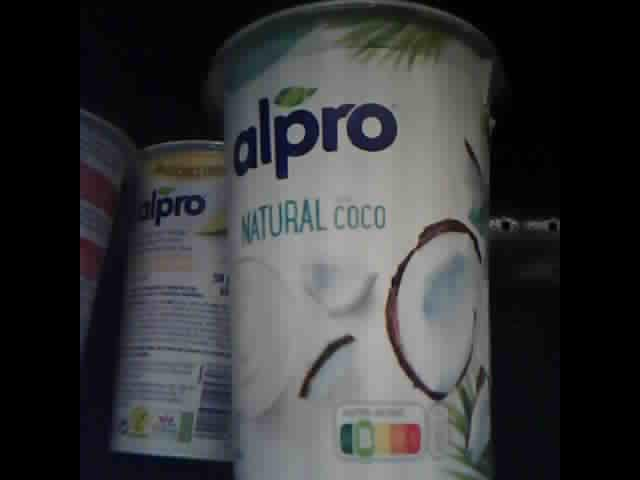alpro: (207, 1, 496, 480), (109, 138, 235, 459), (79, 105, 141, 364)
